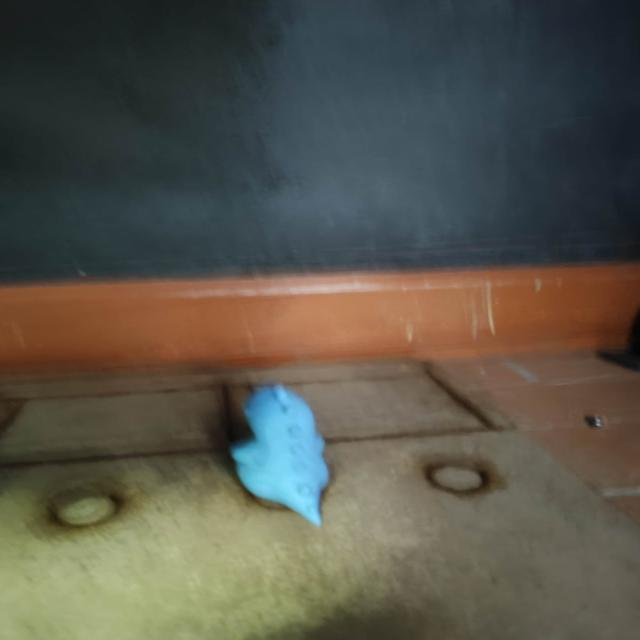DINO: (208, 386, 365, 527)
